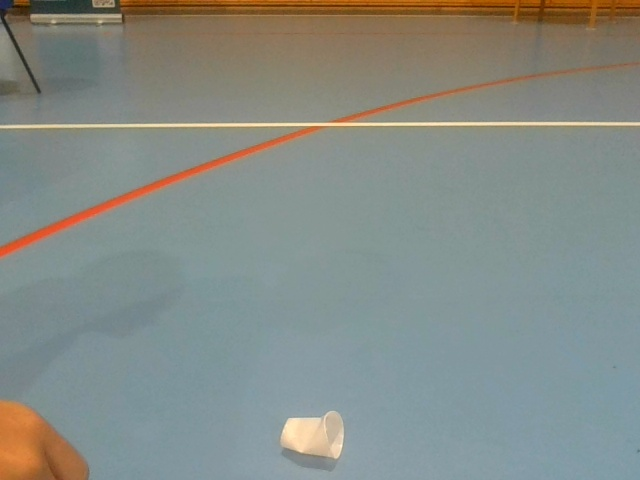plasticcup: (277, 410, 345, 458)
